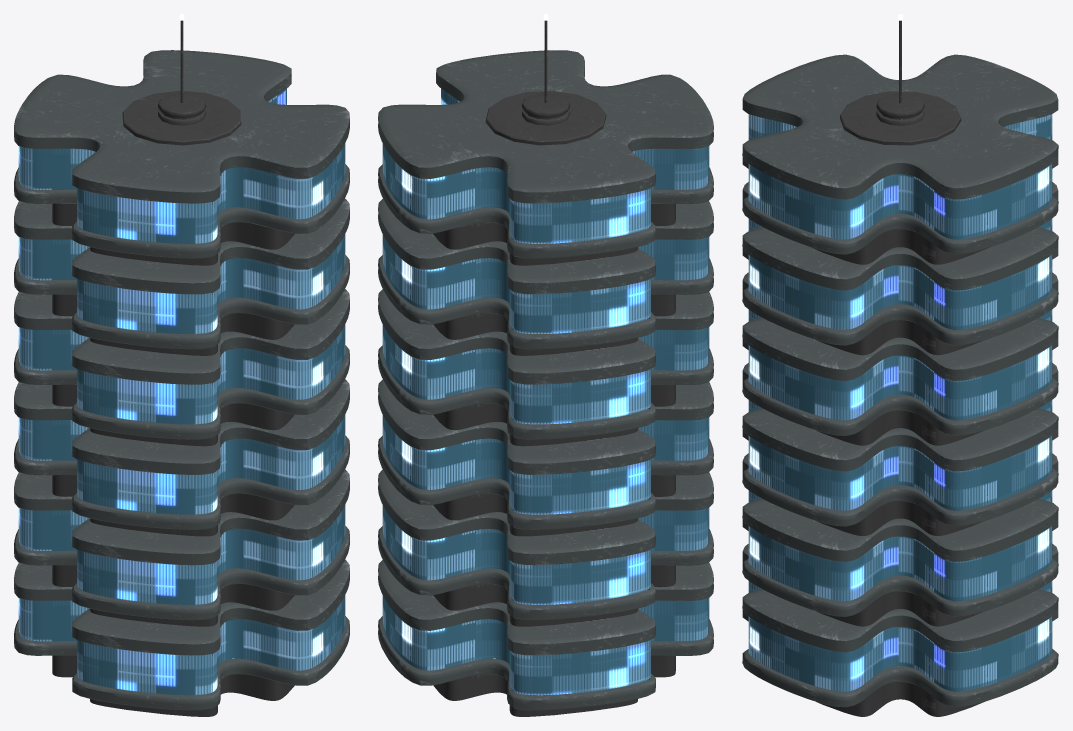
The picture shows the model from 3 angles, left to right: view 1: azimuth 30°, elevation 25°; view 2: azimuth 150°, elevation 25°; view 3: azimuth 270°, elevation 25°; orthographic projection.
Visible parts, largest first — view 1: Sci_fi_building; view 2: Sci_fi_building; view 3: Sci_fi_building.
Boxes of the visible parts, bbox=[...] form: Sci_fi_building: bbox=[14, 14, 349, 716]; Sci_fi_building: bbox=[378, 14, 713, 716]; Sci_fi_building: bbox=[742, 14, 1058, 716].
Bounding box in the file's own units: 104 × 235 × 104.
Materials: 1 (1 with a texture image).
